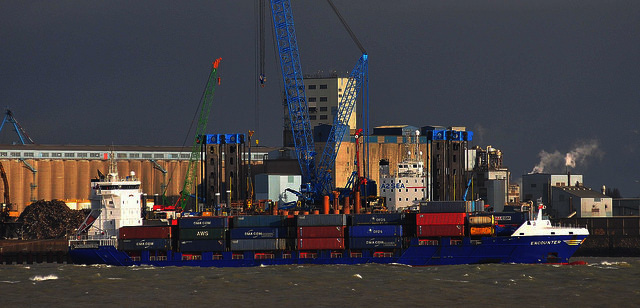container_ship: (72, 146, 601, 267)
